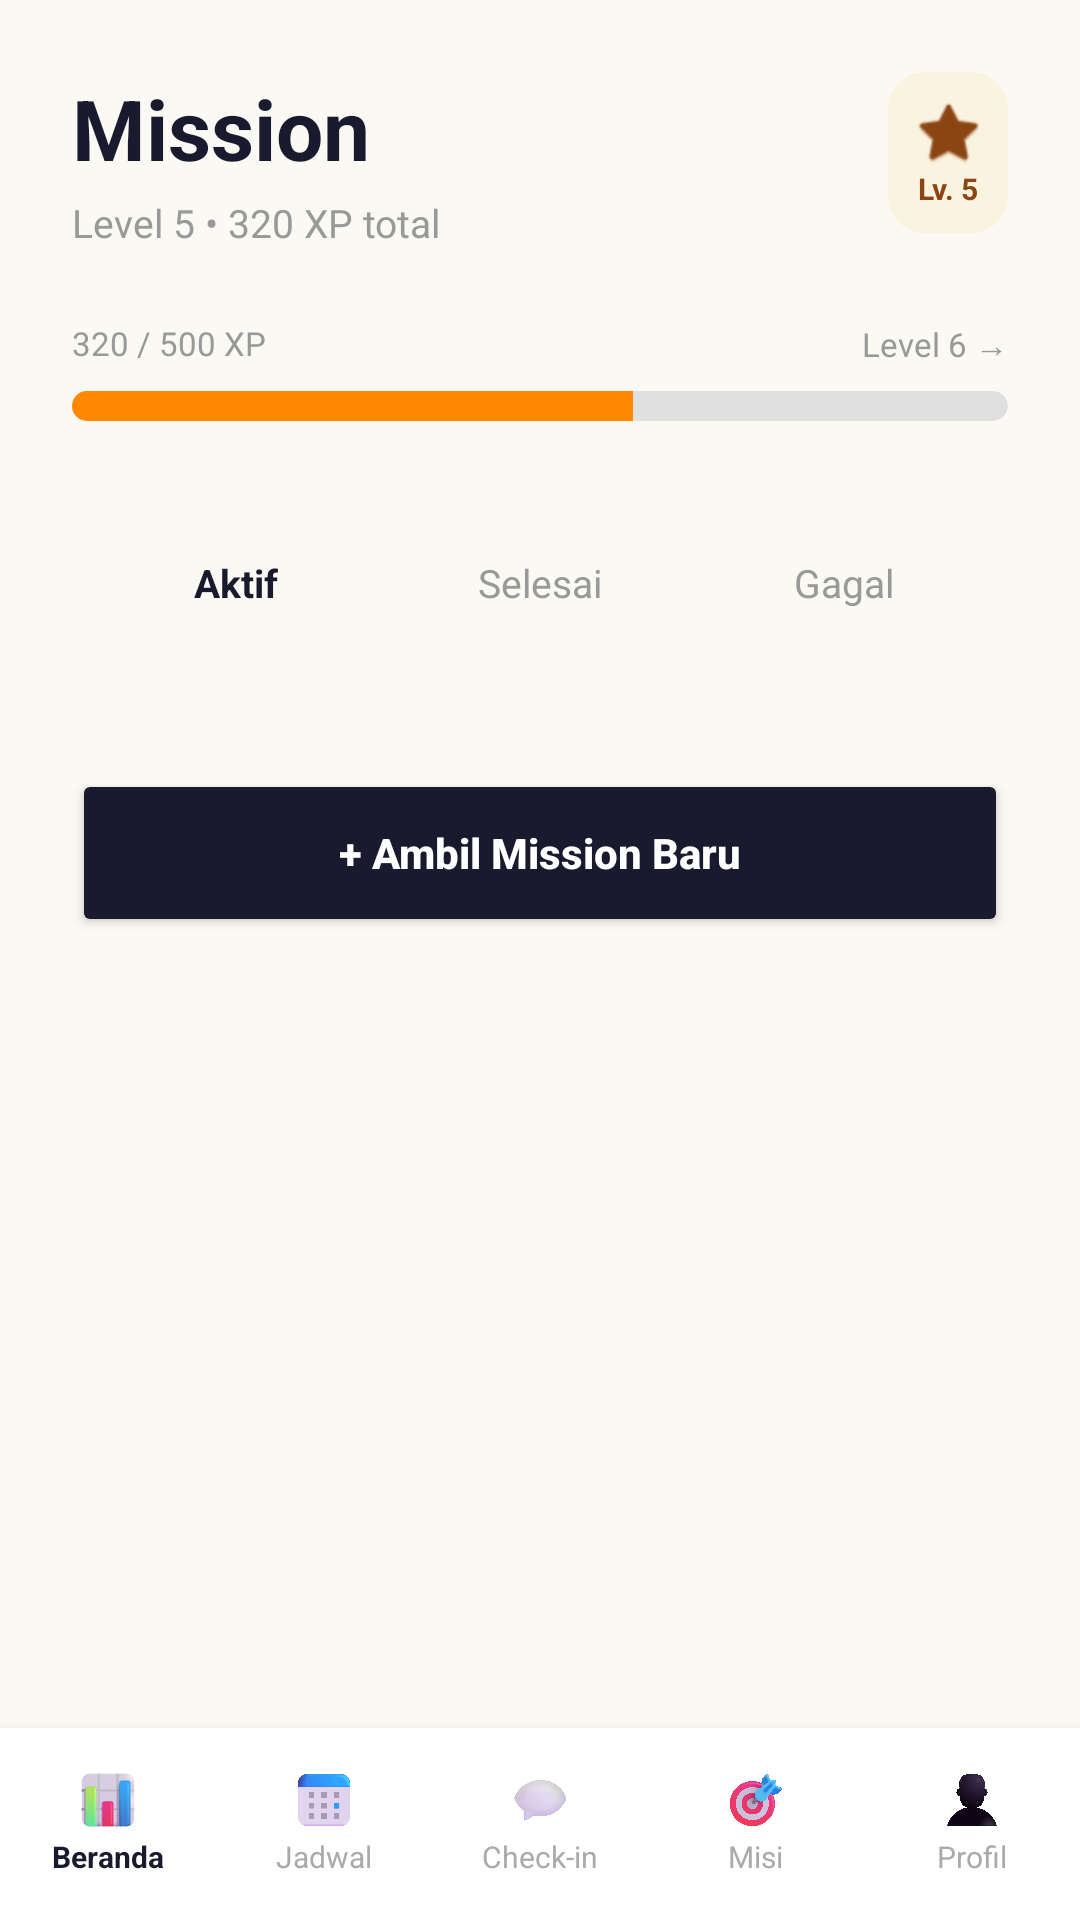

Where icons sit on this 1080px x 1920px app screen, as (x1=x1, y1=y1, x2=x2, y2=y2):
star on: (x1=919, y1=103, x2=979, y2=162)
